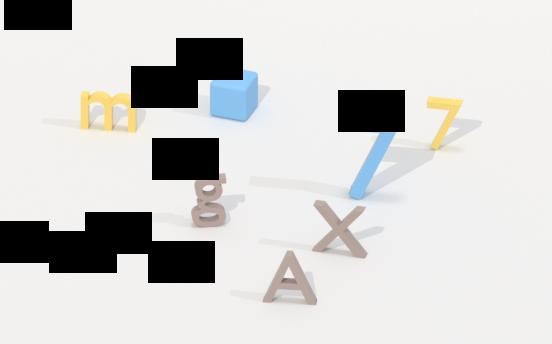7: (335, 108, 411, 204), (423, 93, 469, 154)
A-hoa: (259, 247, 324, 310)
g: (189, 170, 234, 232)
hop: (205, 63, 265, 123)
m: (77, 90, 142, 137)
x: (311, 197, 370, 258)
